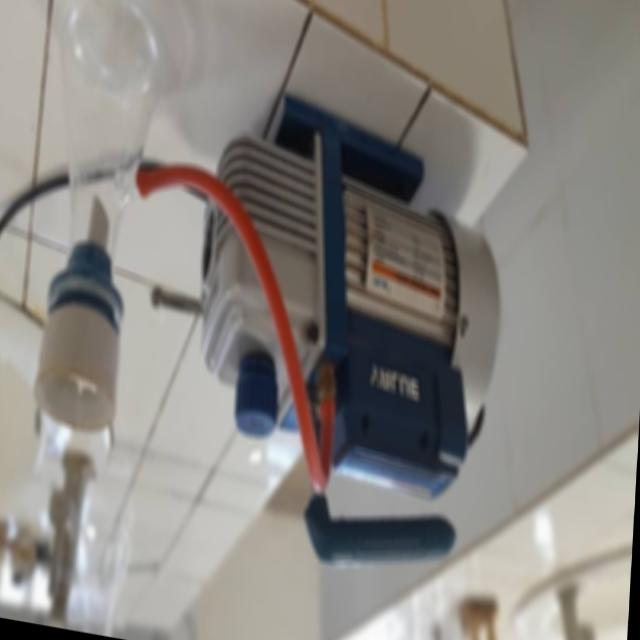Vacuum Pump: (181, 70, 512, 606)
